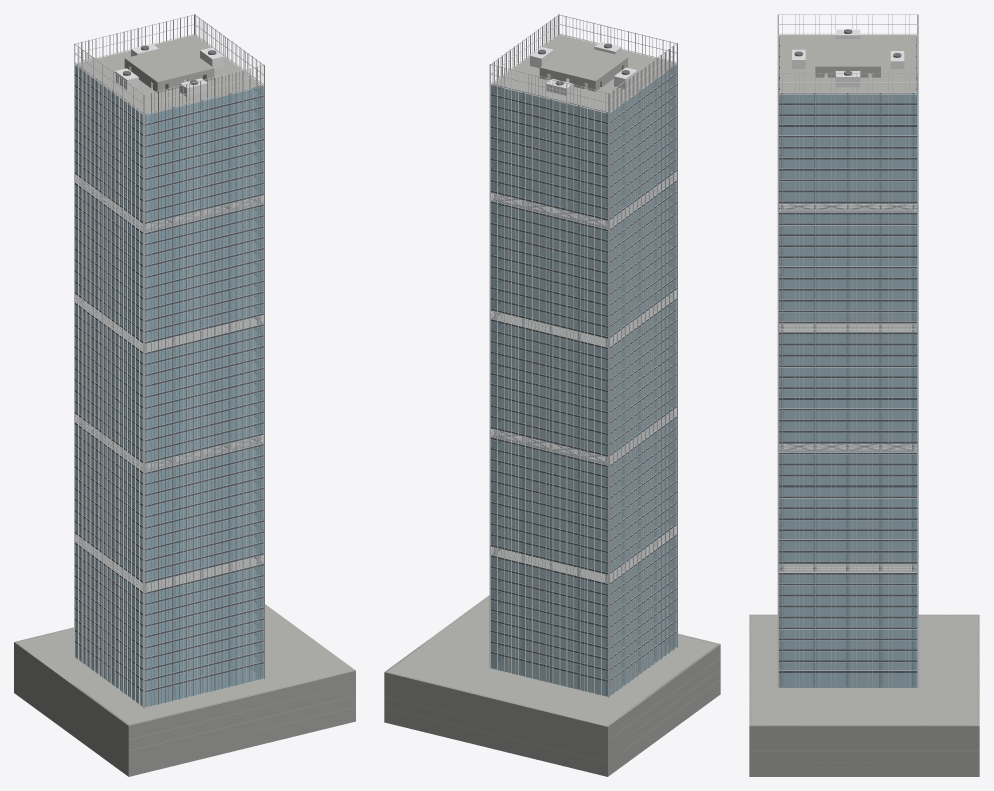
Rendered from tower.glb.
The picture shows the model from 3 angles, left to right: view 1: azimuth 30°, elevation 25°; view 2: azimuth 150°, elevation 25°; view 3: azimuth 270°, elevation 25°; orthographic projection.
Parts seen in each view (by area): view 1: BSlab_-1, Roof, BWall_-1, BWall_-4, BWall_-2, BWall_-3, Slab_54, Curtain_01, Curtain_54, Curtain_07, Curtain_17, Curtain_26 (+55 smaller); view 2: BSlab_-1, Roof, BWall_-1, BWall_-2, BWall_-3, BWall_-4, Slab_54, Curtain_01, Curtain_54, Curtain_06, Curtain_31, Curtain_43 (+89 smaller); view 3: BSlab_-1, Roof, Slab_54, BWall_-1, BWall_-3, BWall_-2, BWall_-4, Curtain_01, Curtain_50, Curtain_09, Curtain_10, Curtain_47 (+104 smaller).
Part boxes in pixels (box(x1,y1,x2,y2)): BSlab_-1: box(14, 604, 355, 726); Roof: box(74, 14, 264, 114); BWall_-1: box(14, 628, 355, 739); BWall_-4: box(14, 679, 355, 772); BWall_-2: box(14, 656, 355, 750); BWall_-3: box(14, 667, 355, 761); Slab_54: box(77, 35, 261, 113); Curtain_01: box(74, 641, 264, 708); Curtain_54: box(74, 34, 264, 125); Curtain_07: box(74, 575, 264, 637); Curtain_17: box(74, 467, 264, 528); Curtain_26: box(74, 368, 264, 430); BSlab_-1: box(385, 595, 720, 727); Roof: box(489, 14, 677, 112); BWall_-1: box(384, 596, 720, 739); BWall_-2: box(384, 658, 720, 750); BWall_-3: box(384, 669, 720, 761); BWall_-4: box(384, 680, 720, 772); Slab_54: box(493, 34, 674, 111); Curtain_01: box(489, 631, 677, 697); Curtain_54: box(489, 34, 677, 123); Curtain_06: box(489, 578, 677, 638); Curtain_31: box(489, 309, 677, 370); Curtain_43: box(489, 181, 677, 241); BSlab_-1: box(749, 614, 979, 726); Roof: box(777, 14, 918, 92); Slab_54: box(780, 35, 916, 92); BWall_-1: box(749, 614, 979, 739); BWall_-3: box(749, 750, 979, 761); BWall_-2: box(749, 740, 979, 750); BWall_-4: box(749, 762, 979, 772); Curtain_01: box(777, 615, 918, 688); Curtain_50: box(777, 79, 918, 148); Curtain_09: box(777, 527, 918, 596); Curtain_10: box(777, 516, 918, 585); Curtain_47: box(777, 112, 918, 181).
Bounding box in the file's own units: 96 × 271 × 84.
